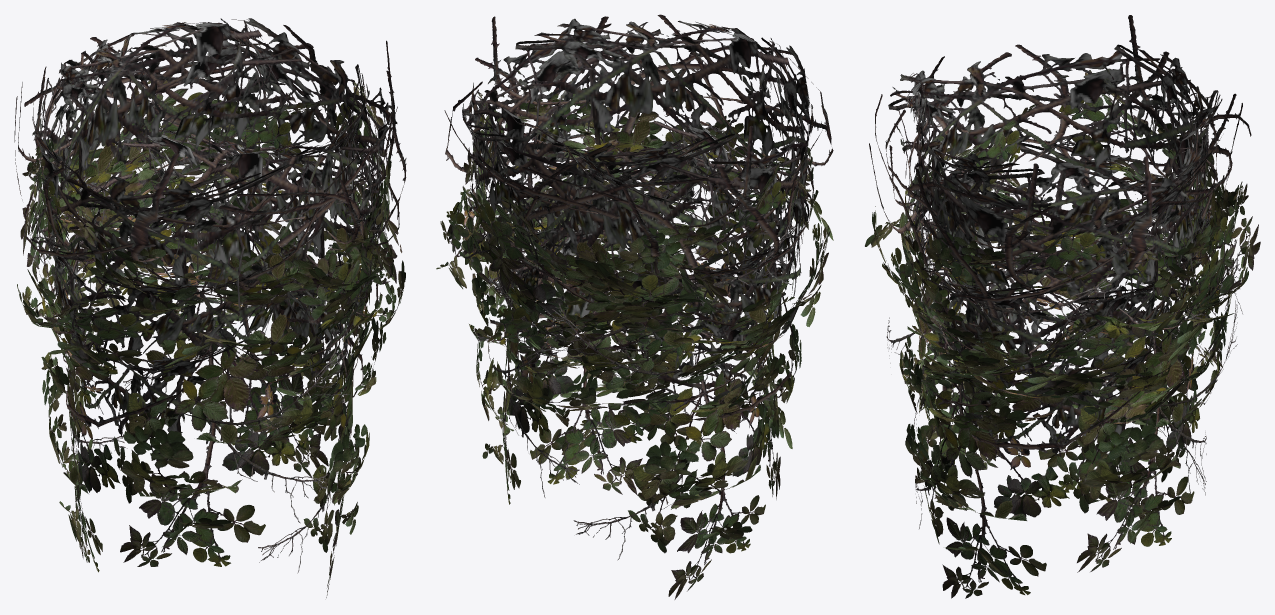
File: Vine.obj
3 renders of one model, left to right at view 1: azimuth 30°, elevation 25°; view 2: azimuth 150°, elevation 25°; view 3: azimuth 270°, elevation 25°, orthographic. The views are drawn at different scales.
Visible parts, largest first — view 1: sponza_00; view 2: sponza_00; view 3: sponza_00.
Boxes of the visible parts, box(x1,y1,x2,y2) form: sponza_00: box(14, 18, 406, 597); sponza_00: box(436, 14, 833, 599); sponza_00: box(865, 15, 1260, 598).
Size of the model in its own units: 91.43 by 126 by 92.81.
